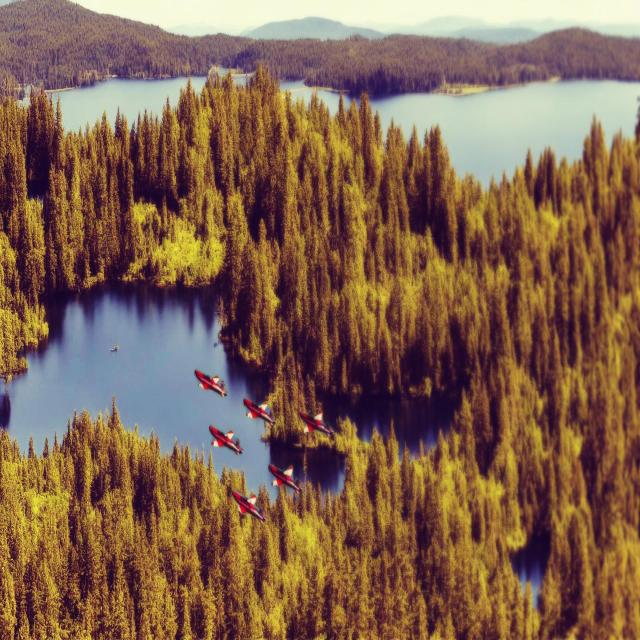airplane: (231, 488, 266, 524), (268, 463, 302, 498), (208, 424, 243, 455), (298, 410, 334, 438), (194, 369, 228, 397), (243, 397, 275, 426)
